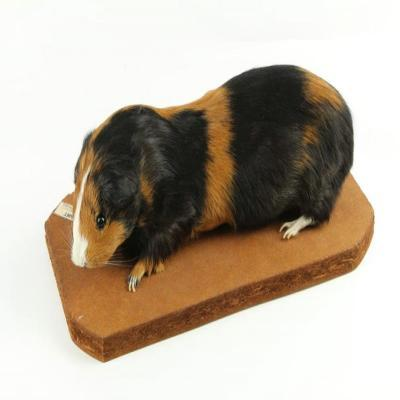natural_science_collection: (70, 65, 355, 292)
